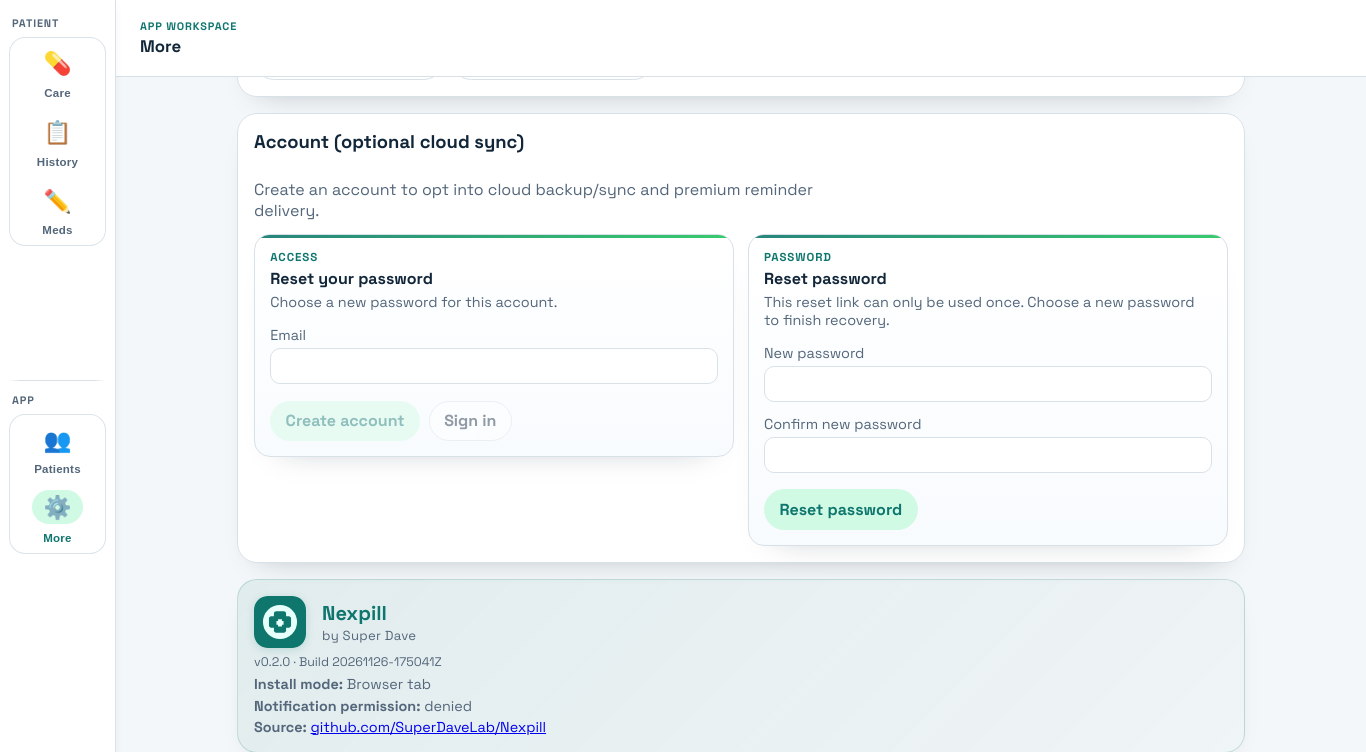
it: App workspace mode flow › reset-token link opens More view and submits password reset
The width and height of the screenshot is (1366, 752).
(page scrolled)
Step 1. Type "new-password-123" into the password field with test id "reset-password-input" → (988, 384), box [764,366,1212,402]
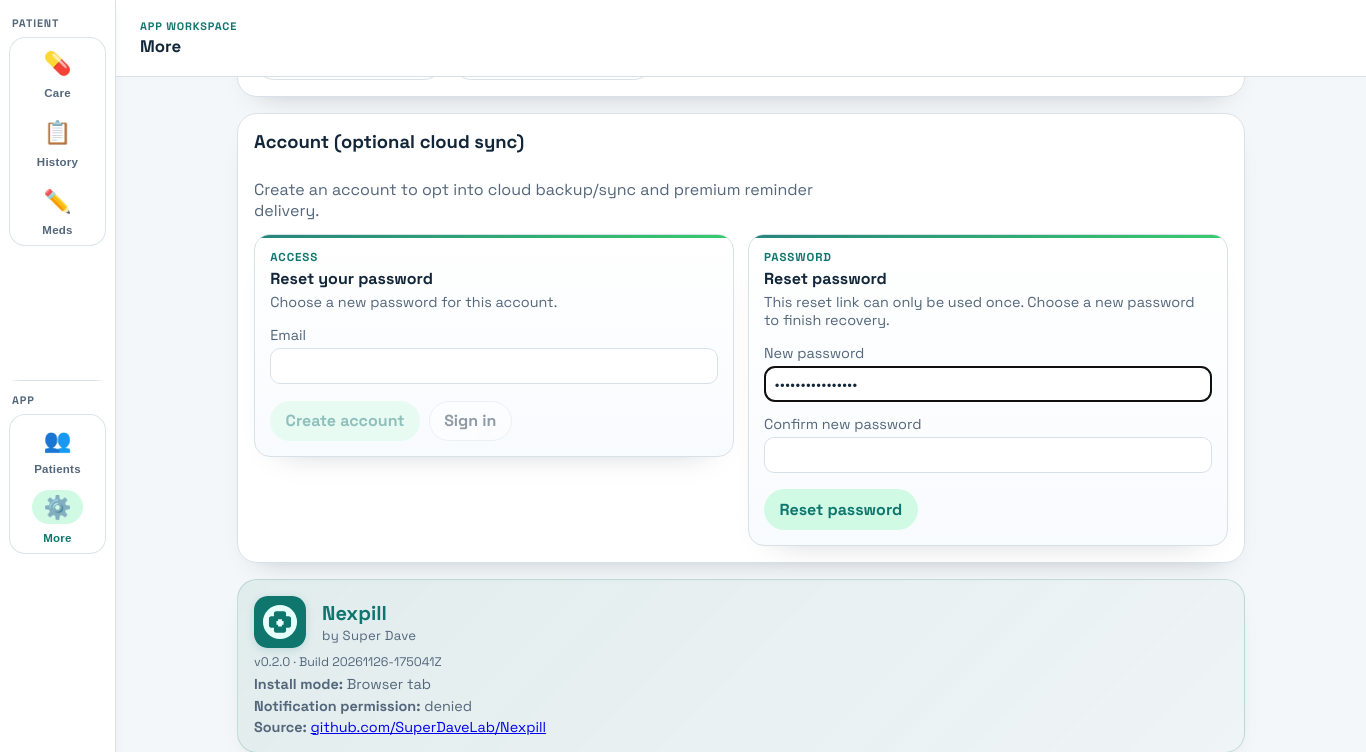
Step 2. Type "new-password-123" into the password field with test id "reset-password-confirm-input" → (988, 455), box [764,437,1212,473]
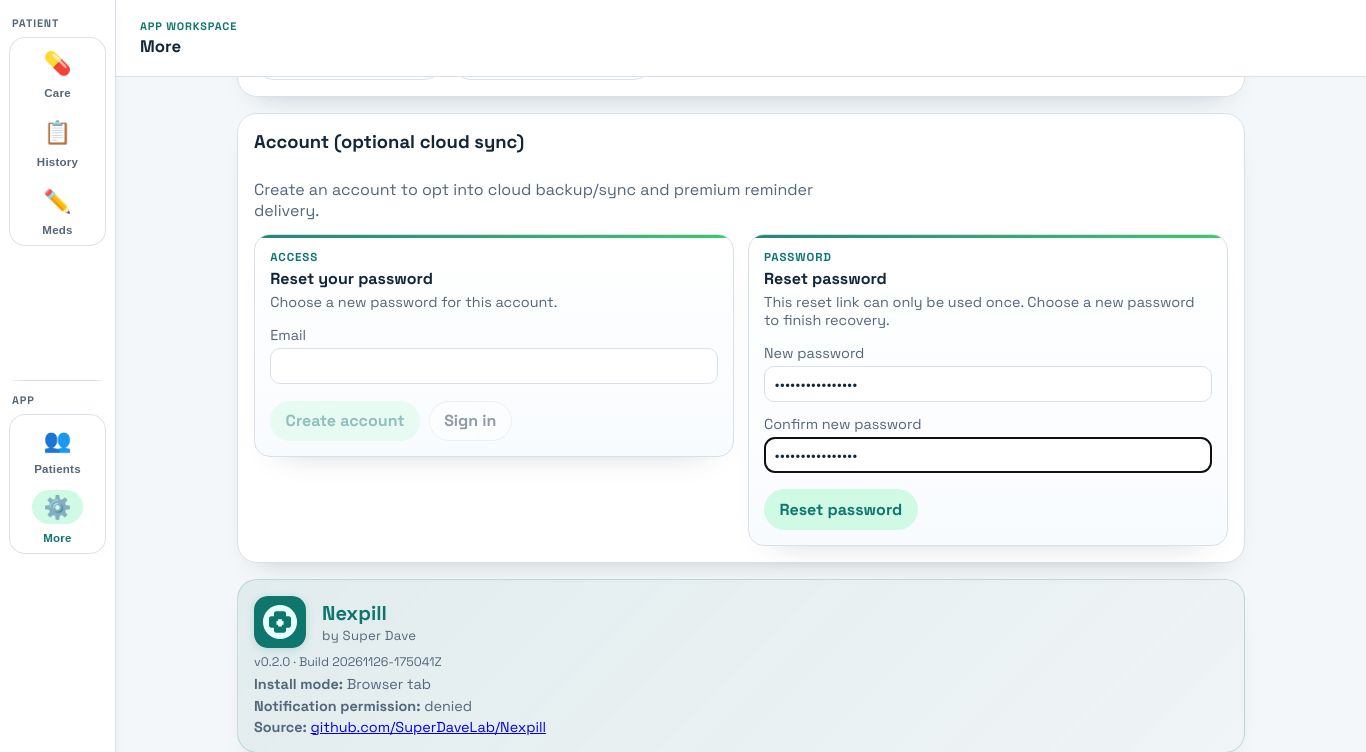
Step 3. Click the button with test id "reset-password-button" → (841, 510), box [764,489,918,530]
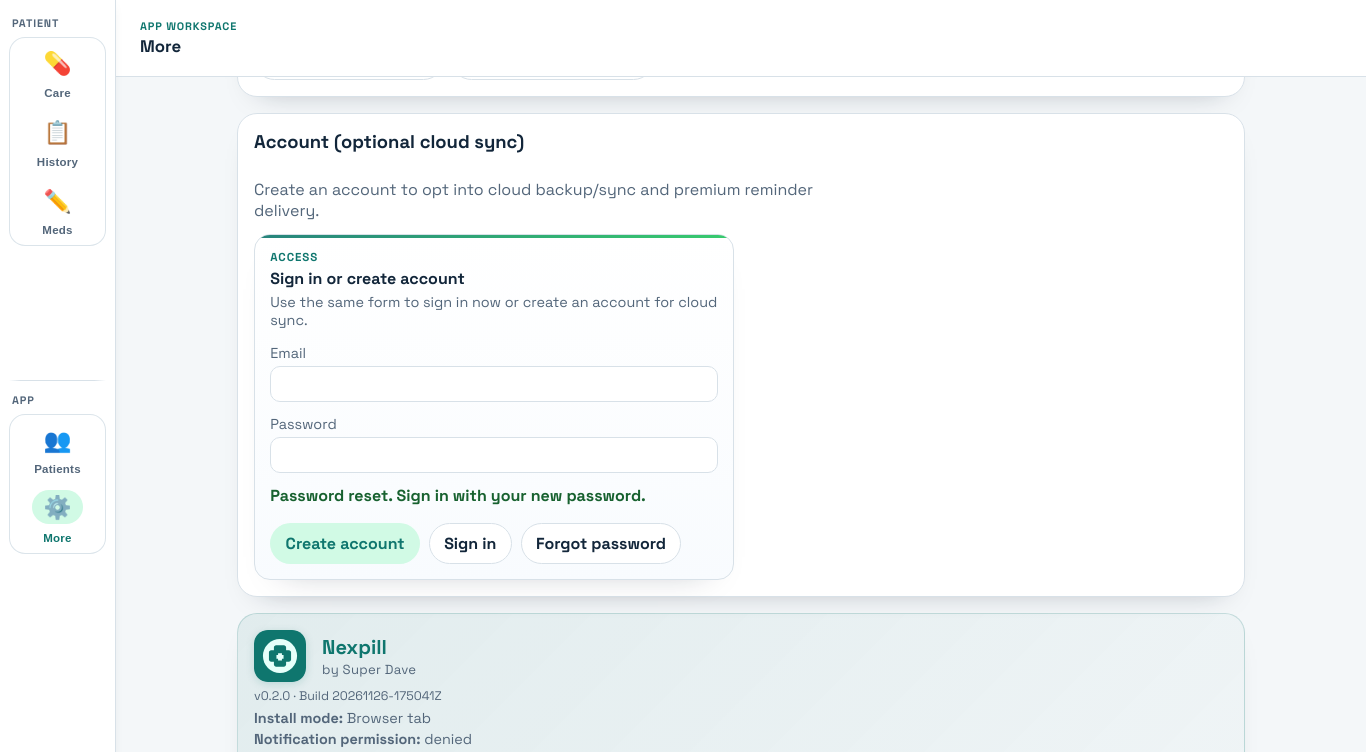
Check: the text "Password reset. Sign in with your new password." is shown, box [270,485,646,506]
